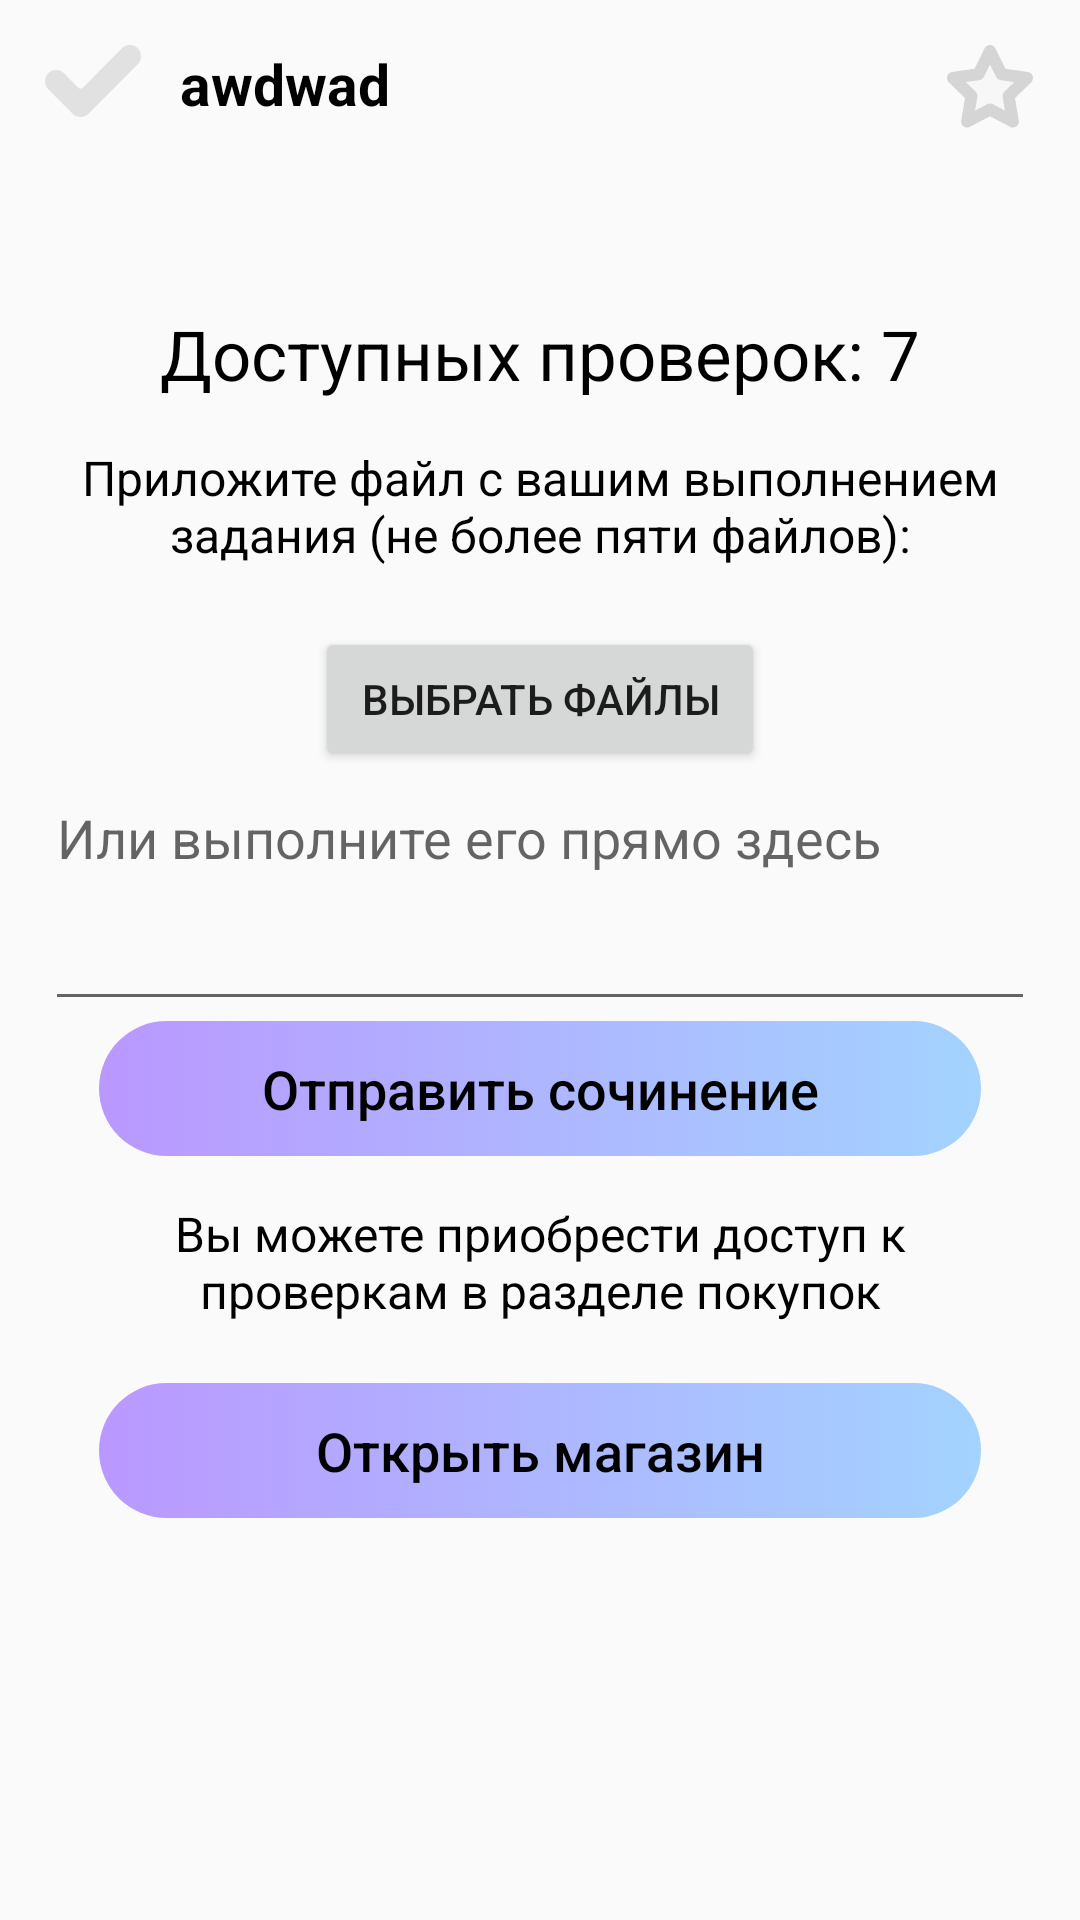

Where icons sit on this 1080px x 1920px app screen, as [x1, y1, x2, y2]:
uncompleted: [45, 45, 141, 117]
unstar: [947, 45, 1033, 127]
